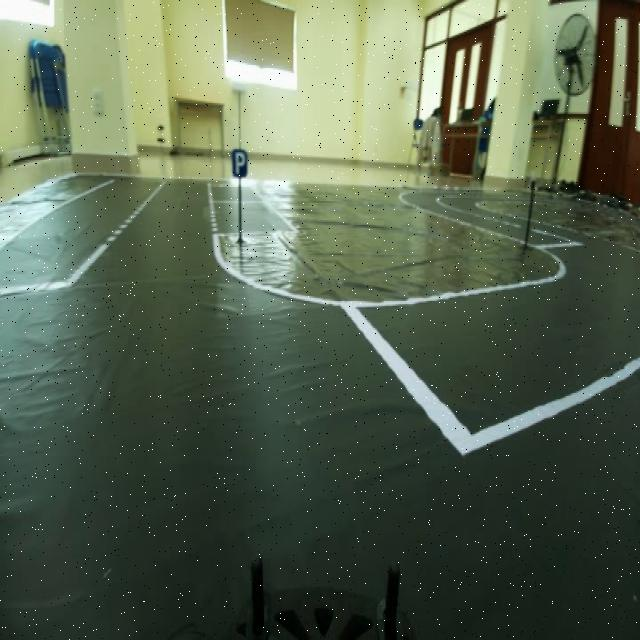parking: (231, 145, 251, 183)
